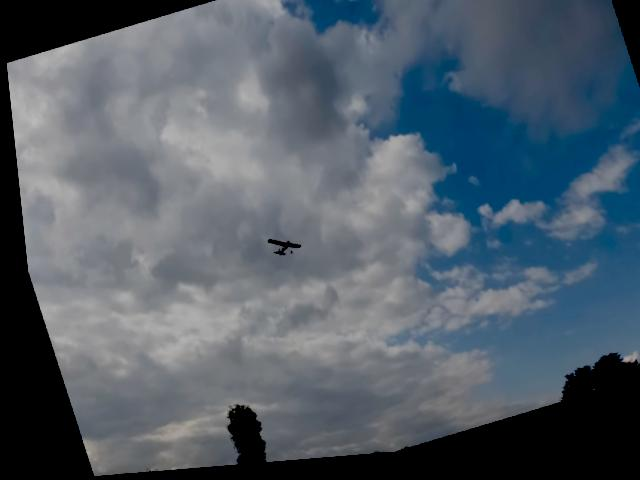plane: (260, 234, 297, 266)
